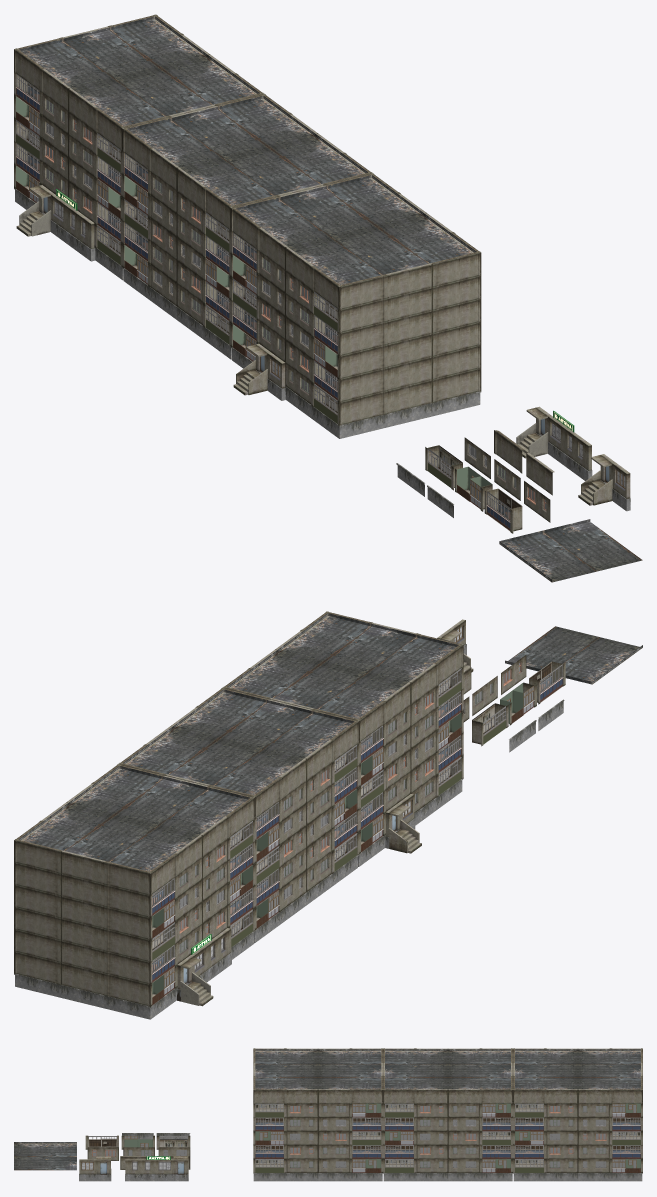
3 views of the same model, one above another, from view 1: azimuth 30°, elevation 25°; view 2: azimuth 150°, elevation 25°; view 3: azimuth 270°, elevation 25° (orthographic). The views are drawn at different scales.
Visible parts, largest first — view 1: Box017, Box015, Object199_Roof_01_0, Object059_Roof_01_0, Object135_Roof_01_0, Object021_Roof_01_0, Object167_Roof_01_0, Object083_Roof_01_0, Object103_Roof_01_0, Object085_Roof_01_0, Object202_Roof_01_0, Object064_Roof_01_0 (+33 smaller); view 2: Box017, Object064_Roof_01_0, Object202_Roof_01_0, Object138_Roof_01_0, Object107_Roof_01_0, Object171_Roof_01_0, Object027_Roof_01_0, Object059_Roof_01_0, Object199_Roof_01_0, Object135_Roof_01_0, Object025_Roof_01_0, Object169_Roof_01_0 (+93 smaller); view 3: Box015, Object017_Roof_01_0, Object025_Roof_01_0, Object101_Roof_01_0, Object105_Roof_01_0, Object165_Roof_01_0, Object169_Roof_01_0, Object083_Roof_01_0, Object021_Roof_01_0, Object027_Roof_01_0, Object085_Roof_01_0, Object103_Roof_01_0 (+100 smaller).
Part boxes in pixels (box(x1,y1,x2,y2)): Box017: box(16, 185, 95, 261); Box015: box(516, 406, 592, 480); Object199_Roof_01_0: box(109, 16, 207, 68); Object059_Roof_01_0: box(326, 175, 424, 227); Object135_Roof_01_0: box(218, 95, 315, 147); Object021_Roof_01_0: box(280, 186, 378, 238); Object167_Roof_01_0: box(64, 27, 161, 79); Object083_Roof_01_0: box(499, 530, 596, 582); Object103_Roof_01_0: box(172, 107, 269, 158); Object085_Roof_01_0: box(545, 519, 642, 571); Object202_Roof_01_0: box(162, 55, 259, 104); Object064_Roof_01_0: box(379, 213, 476, 263); Box017: box(177, 928, 231, 1006); Object064_Roof_01_0: box(277, 613, 371, 663); Object202_Roof_01_0: box(68, 765, 163, 815); Object138_Roof_01_0: box(173, 689, 267, 739); Object107_Roof_01_0: box(217, 700, 311, 750); Object171_Roof_01_0: box(113, 776, 206, 826); Object027_Roof_01_0: box(321, 624, 415, 673); Object059_Roof_01_0: box(227, 650, 320, 698); Object199_Roof_01_0: box(18, 803, 112, 850); Object135_Roof_01_0: box(123, 726, 216, 774); Object025_Roof_01_0: box(365, 634, 458, 683); Object169_Roof_01_0: box(156, 787, 250, 836); Box015: box(125, 1156, 188, 1181); Object017_Roof_01_0: box(318, 1049, 381, 1064); Object025_Roof_01_0: box(255, 1049, 318, 1064); Object101_Roof_01_0: box(448, 1049, 510, 1064); Object105_Roof_01_0: box(385, 1049, 447, 1064); Object165_Roof_01_0: box(578, 1049, 640, 1064); Object169_Roof_01_0: box(515, 1049, 577, 1064); Object083_Roof_01_0: box(14, 1142, 76, 1156); Object021_Roof_01_0: box(318, 1064, 381, 1077); Object027_Roof_01_0: box(255, 1064, 318, 1077); Object085_Roof_01_0: box(14, 1157, 76, 1170); Object103_Roof_01_0: box(448, 1064, 510, 1077).
Size of the model in its own units: 18652 by 15836 by 98816.
Materials: 11 (11 with a texture image).
